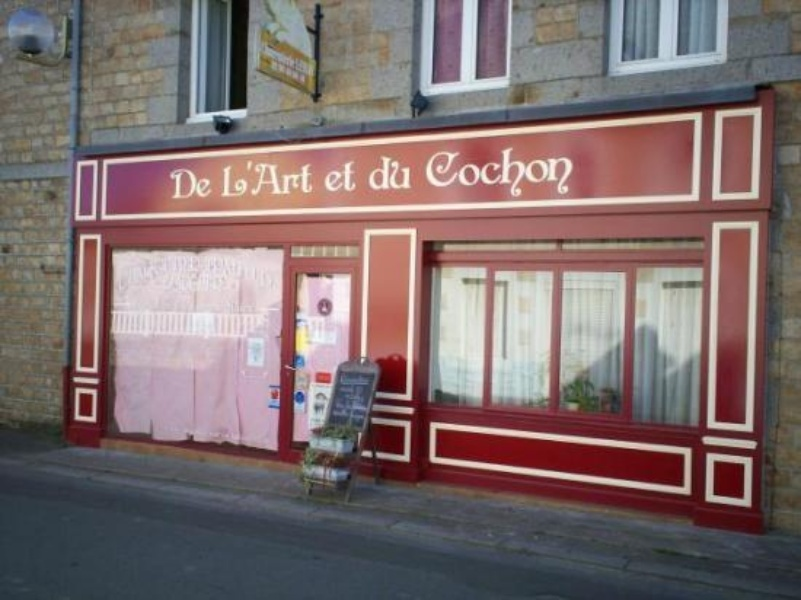text: (433, 145, 448, 197), (449, 145, 464, 197), (465, 145, 480, 197), (481, 145, 496, 197), (497, 145, 512, 197), (513, 145, 528, 197), (529, 145, 544, 197), (545, 145, 560, 197), (561, 145, 573, 197), (129, 254, 144, 292), (145, 254, 160, 292), (161, 254, 176, 292), (177, 254, 192, 292), (193, 254, 208, 292), (209, 254, 224, 292), (225, 254, 240, 292), (241, 254, 256, 292), (257, 254, 272, 292), (225, 159, 240, 197), (241, 159, 256, 197), (257, 159, 272, 197), (273, 159, 288, 197), (289, 159, 304, 197), (369, 155, 384, 191), (385, 155, 400, 191), (273, 44, 288, 76), (289, 44, 304, 76), (177, 168, 192, 199), (193, 168, 208, 199), (337, 161, 352, 191), (117, 254, 128, 292), (289, 60, 305, 84), (273, 60, 288, 84), (324, 161, 336, 191), (401, 155, 411, 191), (426, 145, 432, 197), (305, 159, 312, 197), (337, 407, 352, 423), (169, 168, 176, 199), (353, 381, 365, 398), (353, 400, 368, 413), (305, 44, 311, 76), (353, 373, 369, 385), (353, 407, 365, 423), (338, 373, 352, 385), (267, 44, 272, 76), (353, 391, 365, 404), (343, 381, 352, 398), (273, 254, 277, 292), (340, 401, 352, 413), (209, 168, 212, 199), (353, 161, 356, 191), (222, 159, 224, 197), (347, 391, 352, 404), (321, 375, 331, 381), (270, 60, 272, 84), (296, 404, 304, 410), (309, 417, 320, 421), (353, 401, 356, 413), (273, 400, 279, 405), (268, 400, 272, 405), (317, 375, 320, 381), (335, 407, 336, 423), (351, 400, 352, 413), (321, 417, 324, 421)
